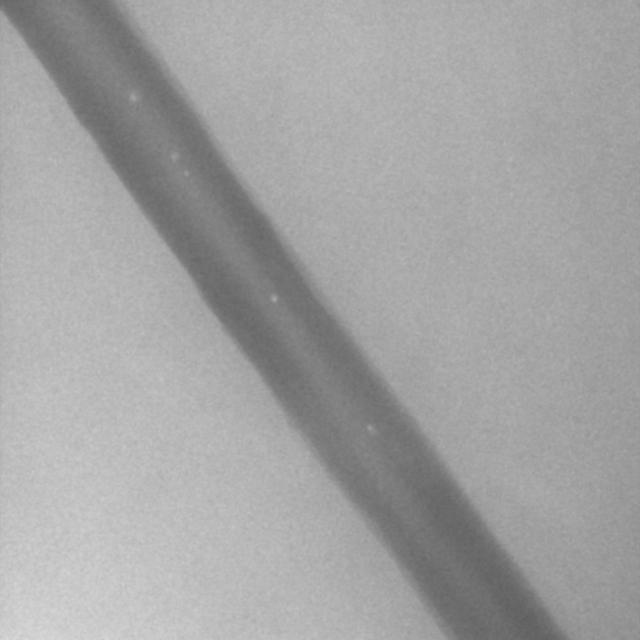air-hole: (365, 418, 378, 437), (129, 87, 139, 102), (270, 293, 281, 302), (169, 152, 179, 160), (183, 168, 191, 178)
